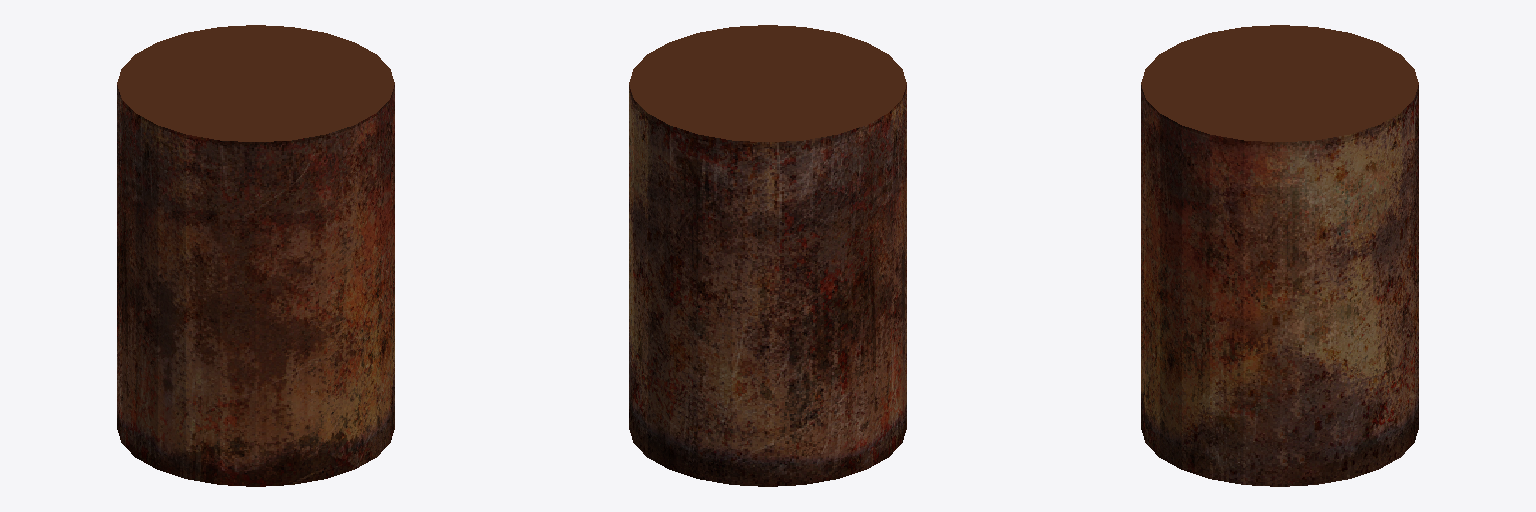
3 renders of one model, left to right at view 1: azimuth 30°, elevation 25°; view 2: azimuth 150°, elevation 25°; view 3: azimuth 270°, elevation 25°, orthographic.
Parts seen in each view (by area): view 1: Cylinder02; view 2: Cylinder02; view 3: Cylinder02.
Part boxes in pixels (x1,y1,x2,y2): Cylinder02: (117,25,394,486); Cylinder02: (629,25,906,486); Cylinder02: (1141,25,1418,486).
Bounding box in the file's own units: 39.5 × 54 × 39.5.
1 materials, 1 textured.